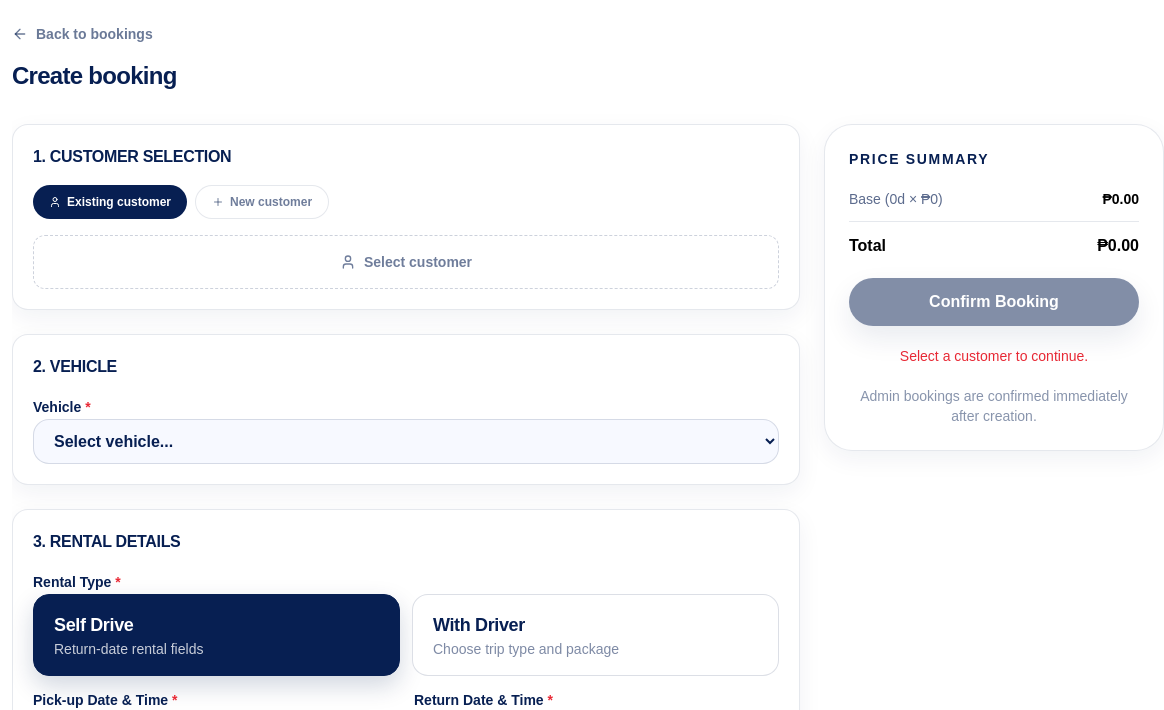
Scenario: AdminBookingsCreate › limits new customer mobile input to 10 digits after the +63 prefix
Click the button "New customer" at (262, 202), box [195, 185, 329, 219]
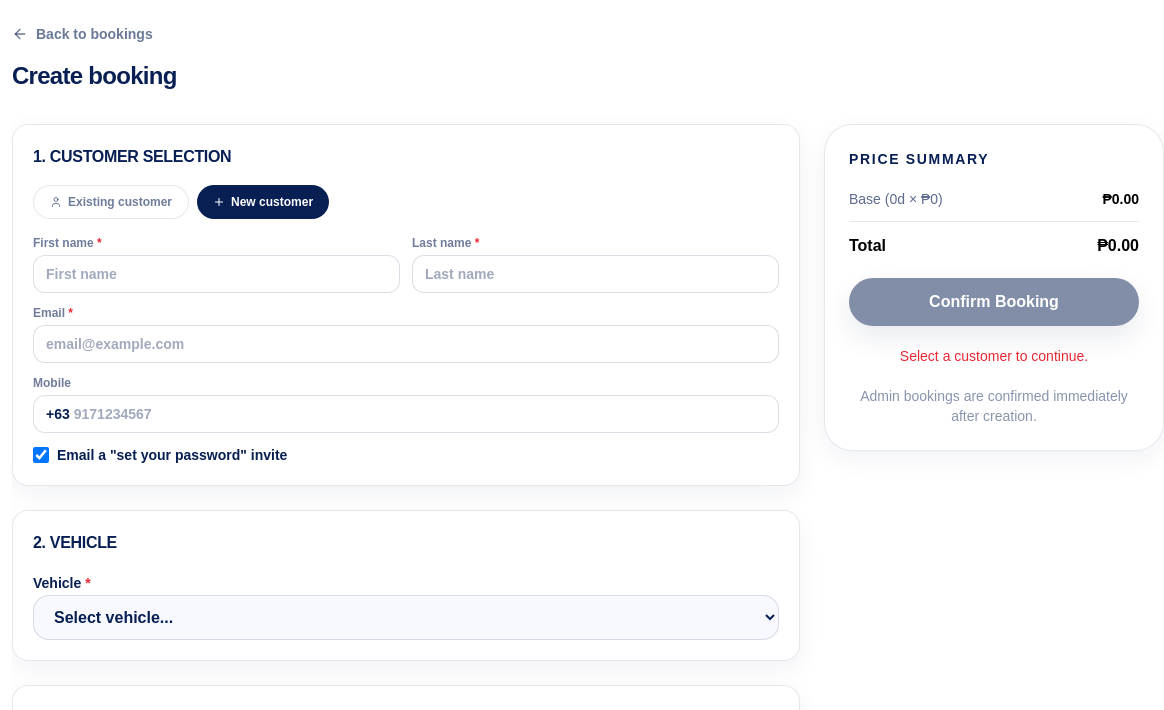
Type "917123456789" into the field with placeholder "9171234567" at (424, 414), box [70, 396, 778, 432]
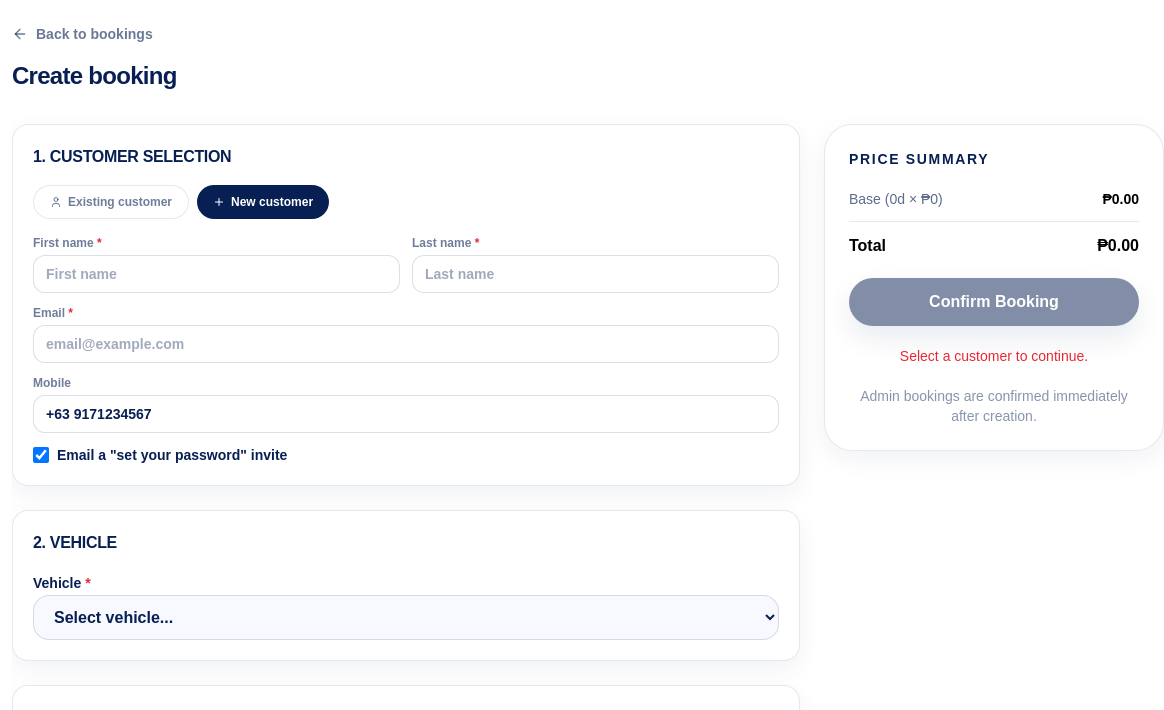
Result: the text "+63" is shown at [46, 406, 70, 422]
Result: the field labelled "Mobile" holds "9171234567" at [70, 396, 778, 432]
